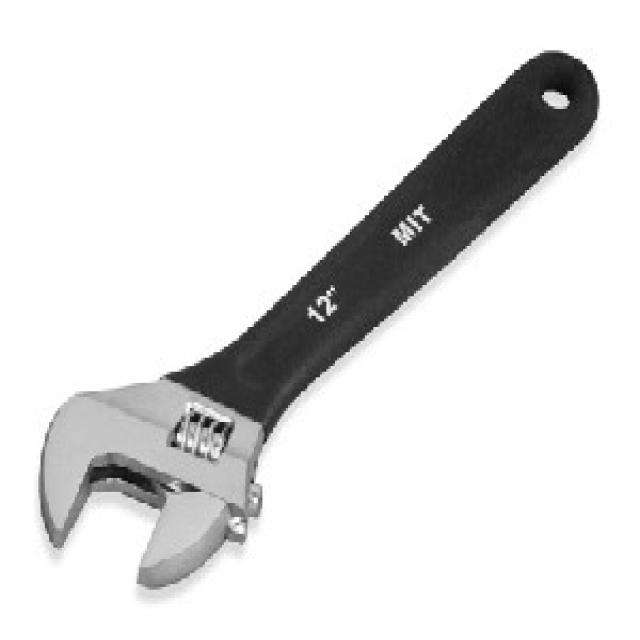wrench: (2, 25, 619, 640)
